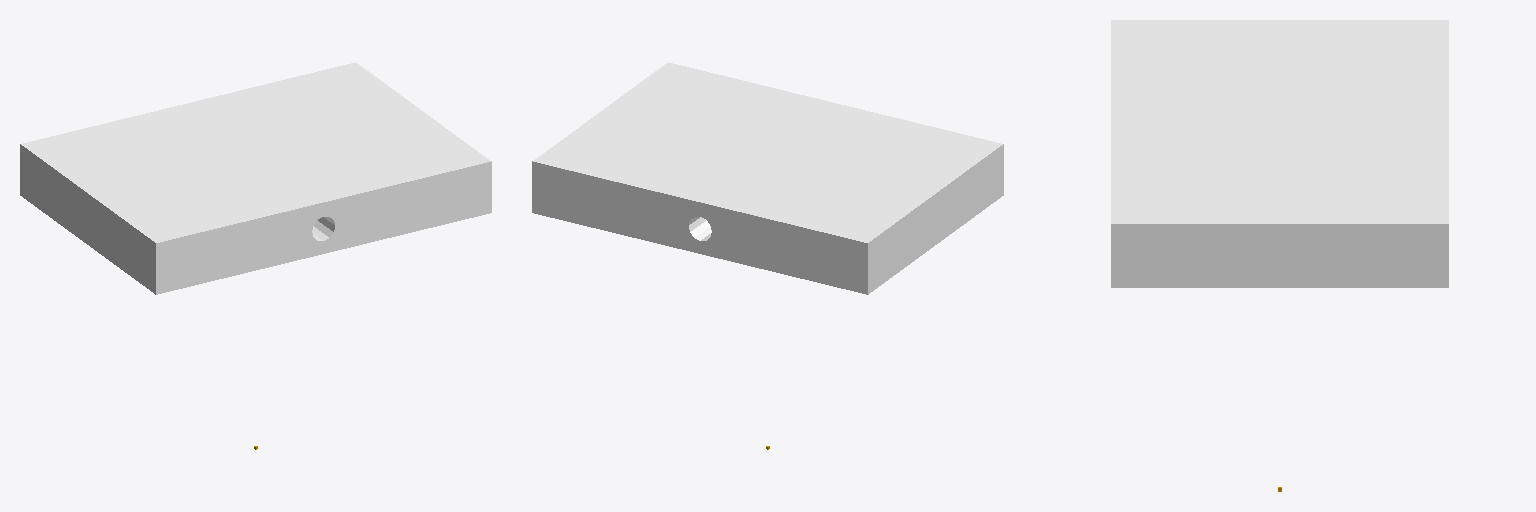
The robot description file, URDF, robot "Robot1":
<?xml version="1.0" encoding="utf-8"?>
<!-- This URDF was automatically created by SolidWorks to URDF Exporter! Originally created by [author] ([email redacted]) 
     Commit Version: 1.6.0-1-g15f4949  Build Version: 1.6.7594.29634
     For more information, please see http://wiki.ros.org/sw_urdf_exporter -->
<robot
  name="Robot1">


 <link name="base_footprint">
    
    <visual>
        <origin xyz="0 0 0" rpy="0 0 0" />
        <geometry>
            <box size="0.001 0.001 0.001" />
        </geometry>
    </visual>
  </link>

  <gazebo reference="base_footprint">
    <turnGravityOff>false</turnGravityOff>
  </gazebo>


<joint name="base_footprint_joint" type="fixed">
    <parent link="base_footprint" />
    <child link="base_link" />
    <origin xyz="0 0 0.12" rpy="0 0 0"/>
</joint> 



  <link
    name="base_link">
    <inertial>
      <origin
        xyz="0.00647051871964233 -0.000365151823192633 -0.130589100082124"
        rpy="0 0 0" />
         <mass
        value="0.164729002881636" />
      <inertia
        ixx="6.26281671270997E-05"
        ixy="8.65538923281156E-07"
        ixz="4.53485280575678E-08"
        iyy="9.08258366556841E-05"
        iyz="-5.53309881732439E-10"
        izz="0.000142682581105393" />
    </inertial>
    <visual>
      <origin
        xyz="0 0 0"
        rpy="0 0 0" />
      <geometry>
        <mesh
          filename="package://Robot1/meshes/base_link.STL" scale="1 1 1" />
      </geometry>
      <material
        name="">
        <color
          rgba="1 1 1 0.32" />
      </material>
    </visual>
    <collision>
      <origin
        xyz="0 0 0"
        rpy="0 0 0" />
      <geometry>
        <mesh
          filename="package://Robot1/meshes/base_link.STL" scale="1 1 1" />
      </geometry>
    </collision>
  </link>
  <link
    name="fl">
    <inertial>
      <origin
        xyz="1.10456654016655E-05 -0.0520940369621504 -1.1086141408323E-05"
        rpy="0 0 0" />
        <mass
        value="0.164729002881636" />
      <inertia
        ixx="6.26281671270997E-05"
        ixy="8.65538923281156E-07"
        ixz="4.53485280575678E-08"
        iyy="9.08258366556841E-05"
        iyz="-5.53309881732439E-10"
        izz="0.000142682581105393" />
    </inertial>
    <visual>
      <origin
        xyz="0 0 0"
        rpy="0 0 0" />
      <geometry>
        <mesh
          filename="package://Robot1/meshes/fl.STL" scale="1 1 1" />
      </geometry>
      <material
        name="">
        <color
          rgba="0.752941176470588 0.752941176470588 0.752941176470588 1" />
      </material>
    </visual>
    <collision>
      <origin
        xyz="0 0 0"
        rpy="0 0 0" />
      <geometry>
        <mesh
          filename="package://Robot1/meshes/fl.STL" scale="1 1 1" />
      </geometry>
    </collision>
  </link>
  <joint
    name="flj"
    type="continuous">
    <origin
      xyz="0.30772 0.27156 -0.13995"
      rpy="0 0 0" />
    <parent
      link="base_link" />
    <child
      link="fl" />
    <axis
      xyz="0 1 0" />
    <limit
      effort="8"
      velocity="8" />
  </joint>
  <link
    name="fr">
    <inertial>
      <origin
        xyz="-1.07524113364121E-05 0.0520940369696714 1.13248931264964E-05"
        rpy="0 0 0" />
          <mass
        value="0.164729002881636" />
      <inertia
        ixx="6.26281671270997E-05"
        ixy="8.65538923281156E-07"
        ixz="4.53485280575678E-08"
        iyy="9.08258366556841E-05"
        iyz="-5.53309881732439E-10"
        izz="0.000142682581105393" />
    </inertial>
    <visual>
      <origin
        xyz="0 0 0"
        rpy="0 0 0" />
      <geometry>
        <mesh
          filename="package://Robot1/meshes/fr.STL" scale="1 1 1" />
      </geometry>
      <material
        name="">
        <color
          rgba="0.752941176470588 0.752941176470588 0.752941176470588 1" />
      </material>
    </visual>
    <collision>
      <origin
        xyz="0 0 0"
        rpy="0 0 0" />
      <geometry>
        <mesh
          filename="package://Robot1/meshes/fr.STL" scale="1 1 1" />
      </geometry>
    </collision>
  </link>
  <joint
    name="frj"
    type="continuous">
    <origin
      xyz="0.30772 -0.27244 -0.13995"
      rpy="0 0 0" />
    <parent
      link="base_link" />
    <child
      link="fr" />
    <axis
      xyz="0 1 0" />
    <limit
      effort="8"
      velocity="8" />
  </joint>
  <link
    name="bl">
    <inertial>
      <origin
        xyz="1.0317215949518E-05 -0.0520940404215675 1.17150107035169E-05"
        rpy="0 0 0" />
          <mass
        value="0.164729002881636" />
      <inertia
        ixx="6.26281671270997E-05"
        ixy="8.65538923281156E-07"
        ixz="4.53485280575678E-08"
        iyy="9.08258366556841E-05"
        iyz="-5.53309881732439E-10"
        izz="0.000142682581105393" />
    </inertial>
    <visual>
      <origin
        xyz="0 0 0"
        rpy="0 0 0" />
      <geometry>
        <mesh
          filename="package://Robot1/meshes/bl.STL" scale="1 1 1"  />
      </geometry>
      <material
        name="">
        <color
          rgba="0.752941176470588 0.752941176470588 0.752941176470588 1" />
      </material>
    </visual>
    <collision>
      <origin
        xyz="0 0 0"
        rpy="0 0 0" />
      <geometry>
        <mesh
          filename="package://Robot1/meshes/bl.STL" scale="1 1 1" />
      </geometry>
    </collision>
  </link>
  <joint
    name="blj"
    type="continuous">
    <origin
      xyz="-0.29482 0.27156 -0.13995"
      rpy="0 0 0" />
    <parent
      link="base_link" />
    <child
      link="bl" />
    <axis
      xyz="0 1 0" />
    <limit
      effort="8"
      velocity="8" />
  </joint>
  <link
    name="br">
    <inertial>
      <origin
        xyz="1.10456654047186E-05 0.0520940369621483 1.10390458581966E-05"
        rpy="0 0 0" />
     <mass
        value="0.164729002881636" />
      <inertia
        ixx="6.26281671270997E-05"
        ixy="8.65538923281156E-07"
        ixz="4.53485280575678E-08"
        iyy="9.08258366556841E-05"
        iyz="-5.53309881732439E-10"
        izz="0.000142682581105393" />
    </inertial>
    <visual>
      <origin
        xyz="0 0 0"
        rpy="0 0 0" />
      <geometry>
        <mesh
          filename="package://Robot1/meshes/br.STL" scale="1 1 1" />
      </geometry>
      <material
        name="">
        <color
          rgba="0.752941176470588 0.752941176470588 0.752941176470588 1" />
      </material>
    </visual>
    <collision>
      <origin
        xyz="0 0 0"
        rpy="0 0 0" />
      <geometry>
        <mesh
          filename="package://Robot1/meshes/br.STL" scale="1 1 1" />
      </geometry>
    </collision>
  </link>
  <joint
    name="brj"
    type="continuous">
    <origin
      xyz="-0.29482 -0.27244 -0.13995"
      rpy="0 0 0" />
    <parent
      link="base_link" />
    <child
      link="br" />
    <axis
      xyz="0 1 0" />
    <limit
      effort="8"
      velocity="8" />
  </joint>
  <link
    name="li">
    <inertial>
      <origin
        xyz="-0.000648399388502252 4.08940147986203E-06 -0.0402872608462286"
        rpy="0 0 0" />
     <mass
        value="0.164729002881636" />
      <inertia
        ixx="6.26281671270997E-05"
        ixy="8.65538923281156E-07"
        ixz="4.53485280575678E-08"
        iyy="9.08258366556841E-05"
        iyz="-5.53309881732439E-10"
        izz="0.000142682581105393" />
    </inertial>
    <visual>
      <origin
        xyz="0 0 0"
        rpy="0 0 0" />
      <geometry>
        <mesh
          filename="package://Robot1/meshes/li.STL" scale="1 1 1"  />
      </geometry>
      <material
        name="">
        <color
          rgba="1 1 1 0.32" />
      </material>
    </visual>
    <collision>
      <origin
        xyz="0 0 0"
        rpy="0 0 0" />
      <geometry>
        <mesh
          filename="package://Robot1/meshes/li.STL" scale="1 1 1" />
      </geometry>
    </collision>
  </link>
  <joint
    name="lij"
    type="fixed">
    <origin
      xyz="0.30901 3.0166E-05 0.068"
      rpy="0 0 0" />
    <parent
      link="base_link" />
    <child
      link="li" />
    <axis
      xyz="0 0 0" />
  </joint>
  <link
    name="i">
    <inertial>
      <origin
        xyz="-0.0105665741259611 -5.01582753105467E-05 -0.000421835337535759"
        rpy="0 0 0" />
          <mass
        value="0.164729002881636" />
      <inertia
        ixx="6.26281671270997E-05"
        ixy="8.65538923281156E-07"
        ixz="4.53485280575678E-08"
        iyy="9.08258366556841E-05"
        iyz="-5.53309881732439E-10"
        izz="0.000142682581105393" />
    </inertial>
    <visual>
      <origin
        xyz="0 0 0"
        rpy="0 0 0" />
      <geometry>
        <mesh
          filename="package://Robot1/meshes/i.STL" scale="1 1 1" />
      </geometry>
      <material
        name="">
        <color
          rgba="1 1 1 0.32" />
      </material>
    </visual>
    <collision>
      <origin
        xyz="0 0 0"
        rpy="0 0 0" />
      <geometry>
        <mesh
          filename="package://Robot1/meshes/i.STL " scale="1 1 1" />
      </geometry>
    </collision>
  </link>
  <joint
    name="ij"
    type="fixed">
    <origin
      xyz="0.41444 -0.0016459 -0.034503"
      rpy="0 0 0" />
    <parent
      link="base_link" />
    <child
      link="i" />
    <axis
      xyz="0 0 0" />
  </joint>

  <gazebo reference="fl">
    <mu1>0.1</mu1>
    <mu2>0.1</mu2>
    <kp>500000.0</kp>
    <kd>10.0</kd>
    <minDepth>0.001</minDepth>
    <maxVel>1</maxVel>
    <fdir1>9 0 0</fdir1>
    <material>Gazebo/FlatBlack</material>
  </gazebo>

  <gazebo reference="fr">
    <mu1>0.1</mu1>
    <mu2>0.1</mu2>
    <kp>500000.0</kp>
    <kd>10.0</kd>
    <minDepth>0.001</minDepth>
    <maxVel>1</maxVel>
    <fdir1>9 0 0</fdir1>
    <material>Gazebo/FlatBlack</material>
  </gazebo>

  <gazebo reference="bl">
    <mu1>0.1</mu1>
    <mu2>0.1</mu2>
     <kp>500000.0</kp>
    <kd>10.0</kd>
    <minDepth>0.001</minDepth>
    <maxVel>1</maxVel>
 <fdir1>9 0 0</fdir1>
    <material>Gazebo/FlatBlack</material>
  </gazebo>

  <gazebo reference="br">
    <mu1>0.1</mu1>
    <mu2>0.1</mu2>
    <kp>5000000.0</kp>
    <kd>10.0</kd>
    <minDepth>0.001</minDepth>
    <maxVel>1</maxVel>
 <fdir1>9 0 0</fdir1>
    <material>Gazebo/FlatBlack</material>
  </gazebo>

<gazebo reference="base_link">
    <mu1>0.1</mu1>
    <mu2>0.1</mu2>
    <kp>5000000.0</kp>
    <kd>10.0</kd>
    <minDepth>0.001</minDepth>
    <maxVel>1</maxVel>
 <fdir1>9 0 0</fdir1>
    <material>Gazebo/Orange</material>

  </gazebo>

<gazebo reference="i">
    <mu1>0.1</mu1>
    <mu2>0.1</mu2>
    <kp>5000000.0</kp>
    <kd>10.0</kd>
    <minDepth>0.001</minDepth>
    <maxVel>1</maxVel>
 <fdir1>9 0 0</fdir1>
    <material>Gazebo/Blue</material>
  </gazebo>

<gazebo reference="li">
    <mu1>0.1</mu1>
    <mu2>0.1</mu2>
    <kp>5000000.0</kp>
    <kd>10.0</kd>
    <minDepth>0.001</minDepth>
    <maxVel>1</maxVel>
 <fdir1>9 0 0</fdir1>
    <material>Gazebo/Red</material>
  </gazebo>




<gazebo>
    <plugin name="object_controller" filename="libgazebo_ros_planar_move.so">
      <commandTopic>cmd_vel</commandTopic>
      <odometryTopic>odom</odometryTopic>
      <odometryFrame>odom</odometryFrame>
      <odometryRate>20.0</odometryRate>
      <robotBaseFrame>base_footprint</robotBaseFrame>
    </plugin>
  </gazebo>


</robot>

--- Facts derived from the render (not from the file) ---
The picture shows the robot from 3 angles, left to right: view 1: azimuth 30°, elevation 25°; view 2: azimuth 150°, elevation 25°; view 3: azimuth 270°, elevation 25°; orthographic projection.
Robot: Robot1 — 8 links, 7 joints (4 continuous, 3 fixed); root link base_footprint; default pose: all joints at 0.
Visible links, largest first — view 1: base_link; view 2: base_link; view 3: base_link.
Link boxes in pixels (left/top/right/bottom): base_link: left=20, top=62, right=491, bottom=294; base_link: left=532, top=62, right=1003, bottom=294; base_link: left=1111, top=20, right=1448, bottom=287.
Size in the robot's own frame: 0.1428 by 0.1 by 0.1205 metres.
Meshes: 7 distinct files referenced, 1 mesh visuals loaded (1 binary STL); not drawn: 6 (reference not matched to a file when rendering).